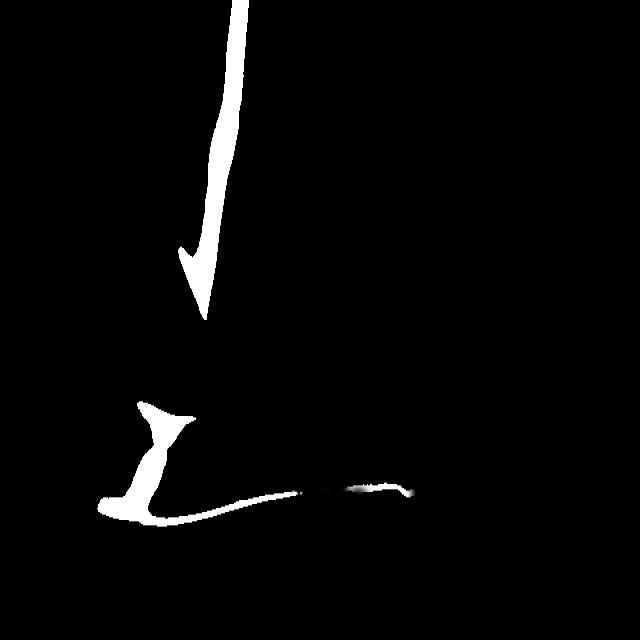inf: (291, 474, 367, 507)
